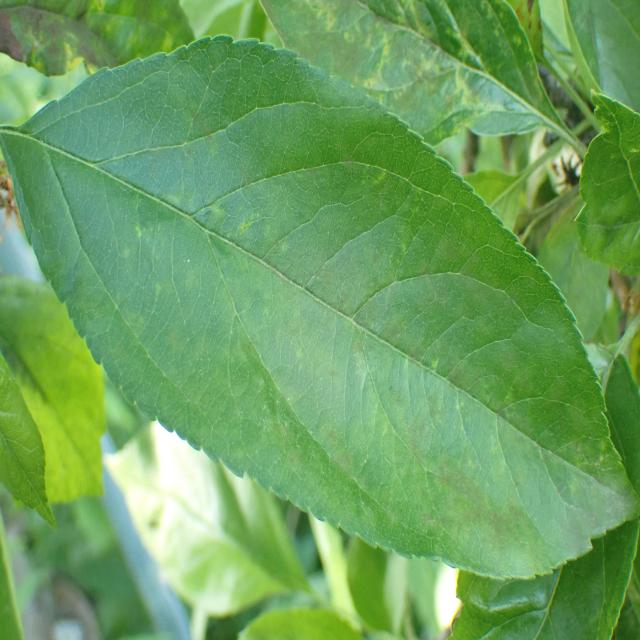scab: (48, 85, 639, 560)
